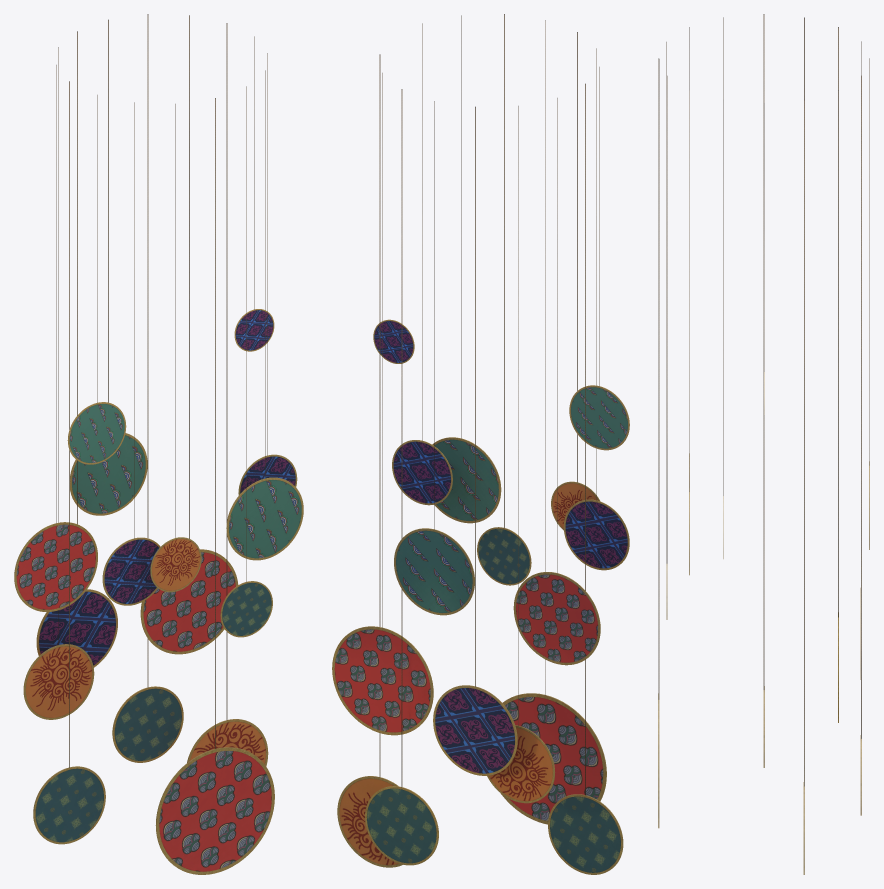
File: HangingFabric_LOD0.glb
The picture shows the model from 3 angles, left to right: view 1: azimuth 30°, elevation 25°; view 2: azimuth 150°, elevation 25°; view 3: azimuth 270°, elevation 25°; orthographic projection. The views are drawn at different scales.
Parts seen in each view (by area): view 1: Hanging Fabric_PROCESSED.001_LOD0; view 2: Hanging Fabric_PROCESSED.001_LOD0; view 3: Hanging Fabric_PROCESSED.001_LOD0.
Boxes of the visible parts, left/top/right/bottom form: Hanging Fabric_PROCESSED.001_LOD0: left=14, top=14, right=303, bottom=874; Hanging Fabric_PROCESSED.001_LOD0: left=332, top=14, right=629, bottom=874; Hanging Fabric_PROCESSED.001_LOD0: left=658, top=14, right=869, bottom=874.
Bounding box in the file's own units: 5.52 × 16.18 × 4.02.
1 material, 1 textured.
